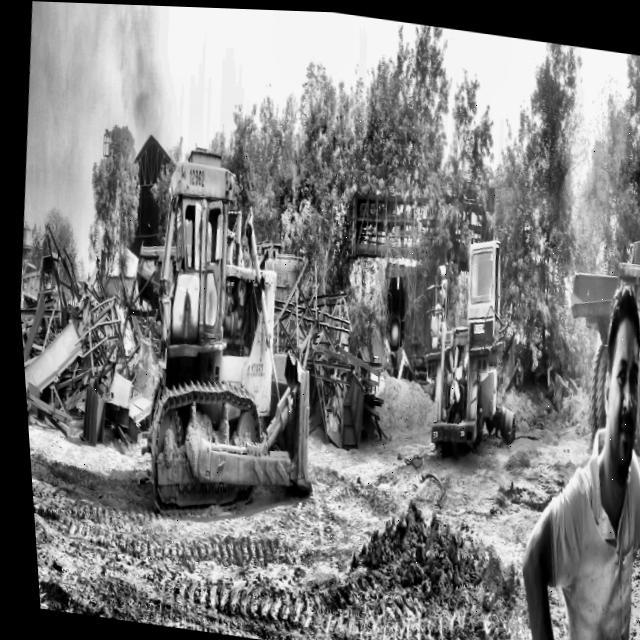buldozerpayloadergrader: (138, 147, 304, 506)
